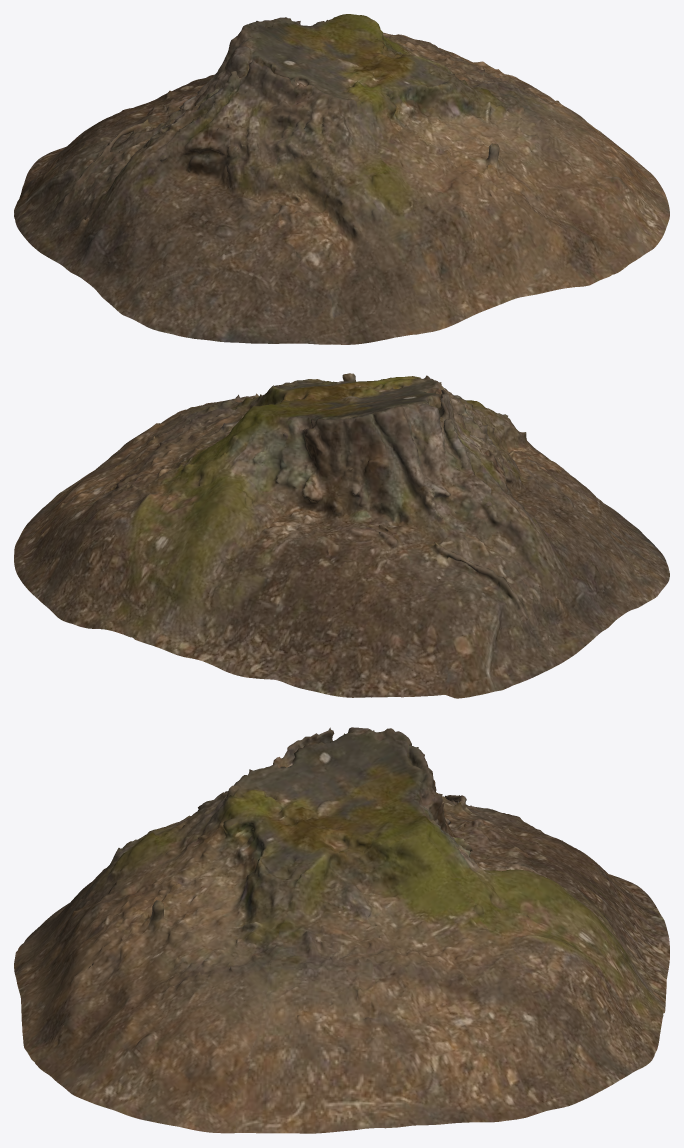
Rendered from tree_stump_02.glb.
3 renders of one model, top to bottom at view 1: azimuth 30°, elevation 25°; view 2: azimuth 150°, elevation 25°; view 3: azimuth 270°, elevation 25°, orthographic. The views are drawn at different scales.
Visible parts, largest first — view 1: tree_stump_02; view 2: tree_stump_02; view 3: tree_stump_02.
Part boxes in pixels (x1,y1,x2,y2): tree_stump_02: (14,14,669,344); tree_stump_02: (14,373,669,698); tree_stump_02: (14,727,669,1133).
Size of the model in its own units: 1.52 by 0.5221 by 1.39.
Materials: 1 (1 with a texture image).
